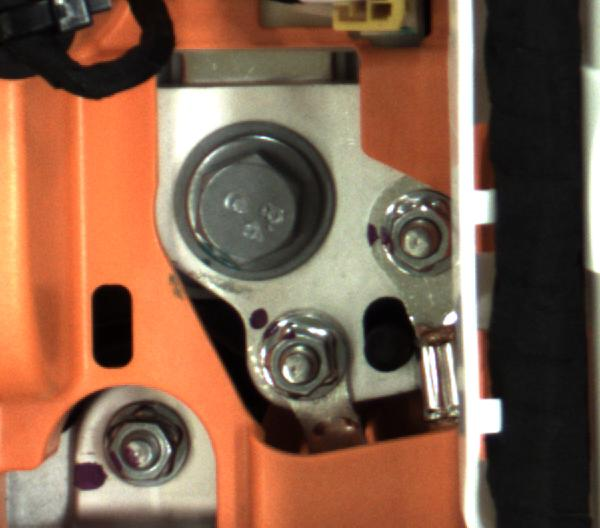nut_b: (174, 122, 345, 280)
screw_s: (251, 314, 357, 409), (101, 393, 196, 497), (381, 186, 472, 292)
